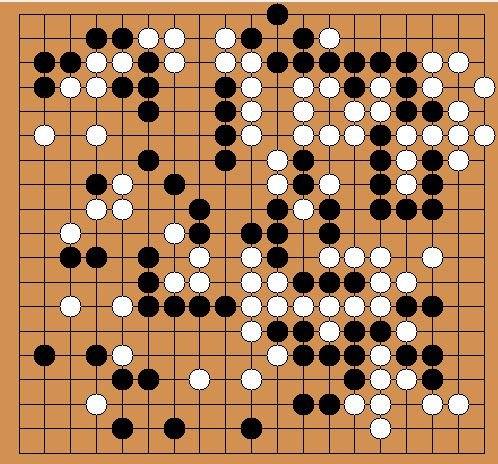black: (434, 349, 448, 363), (276, 7, 288, 19), (277, 253, 287, 263), (277, 228, 287, 238), (92, 253, 102, 263), (118, 424, 128, 434), (303, 351, 313, 361), (303, 400, 313, 410), (303, 277, 313, 287), (118, 375, 128, 385), (39, 351, 49, 361), (65, 253, 75, 263), (251, 424, 261, 434), (436, 302, 446, 312), (409, 106, 419, 116), (198, 228, 208, 238), (224, 302, 234, 312), (303, 57, 313, 67), (171, 424, 181, 434), (145, 302, 155, 312), (145, 375, 155, 385), (303, 179, 313, 189), (145, 106, 155, 116), (356, 351, 366, 361), (330, 228, 340, 238), (92, 179, 102, 189), (436, 375, 446, 385), (93, 352, 101, 360), (437, 107, 445, 115), (437, 156, 445, 164), (304, 327, 312, 335), (278, 58, 286, 66), (384, 156, 392, 164), (357, 376, 365, 384), (331, 58, 339, 66), (384, 180, 392, 188), (384, 327, 392, 335), (384, 131, 392, 139), (225, 131, 233, 139), (331, 205, 339, 213), (278, 205, 286, 213), (357, 58, 365, 66), (172, 303, 180, 311), (278, 327, 286, 335), (225, 107, 233, 115), (225, 82, 233, 90), (225, 156, 233, 164), (172, 180, 180, 188), (437, 205, 445, 213), (410, 303, 418, 311), (410, 352, 418, 360), (437, 180, 445, 188), (66, 58, 74, 66), (119, 82, 127, 90), (252, 229, 260, 237), (119, 33, 127, 41), (410, 58, 418, 66), (410, 205, 418, 213), (331, 401, 339, 409), (410, 82, 418, 90), (384, 205, 392, 213), (199, 303, 207, 311), (304, 156, 312, 164), (199, 205, 207, 213), (304, 33, 312, 41), (146, 278, 154, 286), (146, 254, 154, 262), (357, 278, 365, 286), (146, 58, 154, 66), (146, 82, 154, 90), (357, 327, 365, 335), (146, 156, 154, 164), (252, 33, 260, 41), (331, 278, 339, 286), (331, 352, 339, 360), (40, 58, 48, 66), (93, 33, 101, 41), (384, 58, 392, 66), (358, 83, 364, 89), (41, 83, 47, 89)
white: (326, 273, 344, 291), (278, 303, 286, 311), (278, 278, 286, 286), (437, 58, 445, 66), (93, 401, 101, 409), (437, 82, 445, 90), (278, 352, 286, 360), (384, 82, 392, 90), (119, 303, 127, 311), (119, 352, 127, 360), (490, 131, 498, 139), (463, 58, 471, 66), (304, 303, 312, 311), (331, 82, 339, 90), (331, 131, 339, 139), (278, 156, 286, 164), (331, 33, 339, 41), (66, 303, 74, 311), (490, 82, 498, 90), (384, 107, 392, 115), (66, 229, 74, 237), (331, 180, 339, 188), (384, 425, 392, 433), (463, 401, 471, 409), (278, 180, 286, 188), (172, 58, 180, 66), (172, 33, 180, 41), (437, 254, 445, 262), (225, 58, 233, 66), (225, 33, 233, 41), (331, 303, 339, 311), (357, 107, 365, 115), (410, 180, 418, 188), (410, 278, 418, 286), (119, 205, 127, 213), (119, 180, 127, 188), (410, 376, 418, 384), (252, 376, 260, 384), (410, 327, 418, 335), (252, 327, 260, 335), (304, 205, 312, 213), (252, 278, 260, 286), (252, 303, 260, 311), (119, 58, 127, 66), (66, 82, 74, 90), (463, 107, 471, 115), (463, 131, 471, 139), (463, 156, 471, 164), (410, 131, 418, 139), (410, 156, 418, 164), (384, 376, 392, 384), (199, 254, 207, 262), (199, 278, 207, 286), (384, 352, 392, 360), (199, 376, 207, 384), (304, 131, 312, 139), (304, 82, 312, 90), (304, 107, 312, 115), (437, 401, 445, 409), (172, 278, 180, 286), (357, 131, 365, 139), (172, 229, 180, 237), (384, 401, 392, 409), (357, 303, 365, 311), (146, 33, 154, 41), (357, 254, 365, 262), (384, 303, 392, 311), (357, 401, 365, 409), (384, 254, 392, 262), (384, 278, 392, 286), (252, 82, 260, 90), (252, 107, 260, 115), (252, 131, 260, 139), (252, 58, 260, 66), (331, 254, 339, 262), (40, 131, 48, 139), (437, 131, 445, 139), (331, 327, 339, 335), (93, 205, 101, 213), (93, 131, 101, 139), (93, 82, 101, 90), (252, 254, 260, 262), (93, 58, 101, 66)
